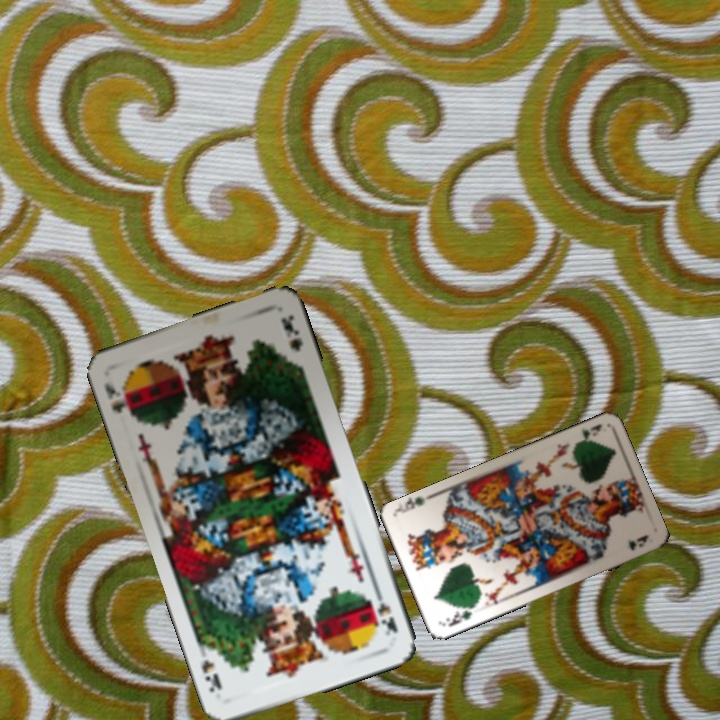GK: (441, 601, 477, 629), (571, 420, 604, 449)
SK: (370, 583, 401, 638), (100, 377, 137, 420)
